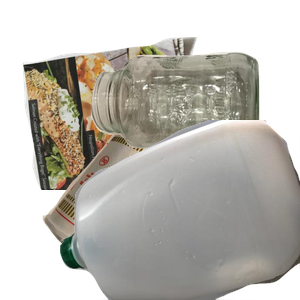glass: (88, 50, 300, 194)
paper: (20, 34, 221, 214)
plastic: (60, 120, 300, 300)
trash: (40, 121, 221, 300)
